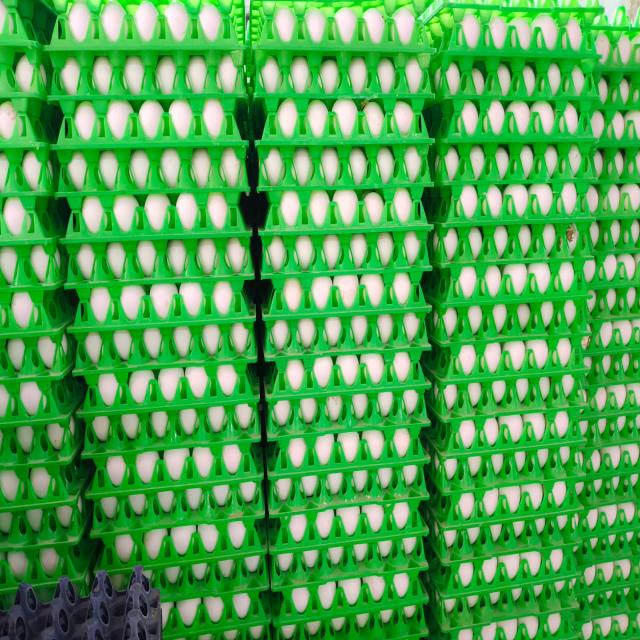egg_tray: (0, 140, 90, 587), (50, 2, 246, 191), (260, 188, 428, 353), (266, 353, 426, 515), (92, 471, 268, 616), (260, 189, 428, 326), (427, 477, 582, 614), (270, 503, 426, 637), (268, 387, 426, 517), (270, 506, 426, 637), (427, 359, 586, 487), (426, 182, 589, 303), (98, 521, 268, 637), (84, 410, 262, 519), (270, 502, 425, 627), (270, 502, 426, 626), (423, 304, 588, 420), (425, 303, 588, 420), (64, 193, 253, 290), (64, 193, 252, 289), (254, 47, 430, 144), (90, 470, 264, 568), (71, 282, 256, 374), (88, 441, 262, 537), (57, 55, 243, 144), (82, 363, 256, 457), (65, 189, 250, 275), (429, 132, 593, 223), (264, 269, 428, 359), (434, 51, 597, 141), (425, 142, 599, 226), (585, 147, 640, 410), (266, 427, 427, 516), (427, 143, 598, 225), (268, 351, 426, 437), (269, 502, 426, 587), (426, 407, 584, 490), (100, 514, 266, 593), (426, 445, 584, 527), (425, 483, 582, 565), (427, 547, 578, 631), (270, 316, 426, 397), (50, 49, 244, 113), (249, 1, 430, 68), (0, 458, 92, 589), (0, 417, 91, 549), (426, 489, 580, 566), (260, 215, 429, 285), (48, 0, 244, 60), (265, 352, 430, 423), (428, 221, 592, 292), (266, 271, 411, 350), (0, 289, 82, 427), (256, 130, 430, 195), (425, 475, 584, 546), (66, 234, 253, 294), (424, 4, 601, 67), (257, 138, 430, 202), (253, 52, 430, 114), (428, 543, 578, 615), (56, 146, 248, 202), (434, 58, 598, 123), (272, 571, 428, 639), (0, 194, 71, 342), (425, 411, 584, 477), (73, 317, 257, 374), (18, 566, 161, 639), (0, 195, 72, 339), (0, 147, 68, 297), (256, 98, 430, 156), (80, 363, 257, 420), (0, 147, 68, 293), (83, 403, 260, 458), (56, 97, 243, 149), (74, 280, 254, 333), (583, 253, 640, 420), (260, 181, 429, 237), (274, 578, 429, 639), (0, 151, 67, 292), (426, 436, 583, 495), (578, 447, 638, 601), (426, 299, 591, 354), (0, 44, 56, 206), (432, 139, 594, 195), (430, 577, 577, 638), (422, 335, 588, 388), (580, 348, 640, 494), (263, 271, 428, 324), (0, 455, 91, 551), (266, 387, 428, 440), (423, 257, 588, 307), (264, 310, 429, 360), (0, 4, 56, 147), (425, 370, 585, 420), (0, 373, 83, 466), (434, 98, 597, 145), (584, 184, 640, 319), (582, 289, 640, 418), (0, 537, 98, 609), (0, 538, 95, 609), (578, 479, 640, 587), (591, 23, 640, 152), (0, 487, 91, 556), (584, 183, 640, 295), (576, 535, 638, 636), (0, 193, 68, 284), (0, 0, 54, 111), (160, 585, 270, 639), (577, 499, 638, 590), (0, 415, 84, 479), (581, 407, 640, 498), (592, 7, 640, 112), (0, 222, 67, 293), (0, 374, 83, 428), (430, 609, 575, 639), (429, 610, 575, 639), (587, 178, 640, 257), (0, 287, 74, 342), (0, 329, 75, 383), (589, 183, 640, 261), (582, 289, 640, 357), (0, 287, 74, 340), (583, 289, 640, 357), (580, 441, 640, 505), (180, 596, 269, 639), (270, 192, 370, 230), (106, 447, 210, 483), (580, 447, 638, 507), (0, 0, 54, 63), (592, 147, 640, 217), (592, 6, 640, 75), (0, 93, 59, 149), (574, 589, 640, 639), (0, 46, 50, 111), (0, 147, 58, 201), (577, 590, 640, 639), (580, 413, 640, 464), (578, 589, 640, 638), (594, 63, 640, 114), (590, 108, 640, 148), (8, 54, 45, 98), (161, 601, 200, 639), (98, 98, 131, 138), (488, 340, 549, 360), (496, 414, 547, 436), (206, 405, 255, 426), (173, 600, 210, 627), (368, 193, 400, 224), (28, 347, 66, 373), (335, 191, 363, 221), (454, 13, 480, 45), (292, 148, 311, 187), (405, 148, 425, 181), (536, 15, 557, 44), (320, 322, 343, 348), (590, 387, 616, 410), (70, 103, 97, 125), (602, 220, 633, 239), (137, 249, 157, 276), (198, 252, 222, 274), (608, 424, 640, 440), (394, 190, 412, 218), (3, 604, 23, 629), (225, 594, 244, 620), (6, 199, 33, 217), (386, 574, 409, 594), (16, 100, 40, 119), (592, 356, 619, 372), (491, 15, 505, 45), (445, 148, 459, 177), (403, 314, 420, 336), (499, 415, 523, 430), (40, 352, 61, 368), (282, 516, 304, 531), (470, 147, 485, 169), (406, 322, 422, 342), (556, 339, 578, 353), (412, 292, 426, 314), (3, 340, 21, 357), (595, 387, 614, 402), (495, 148, 508, 169), (570, 18, 580, 44), (379, 321, 390, 344), (354, 156, 366, 177), (353, 321, 367, 338), (524, 483, 543, 495), (136, 454, 153, 467), (588, 295, 598, 316), (617, 79, 629, 95), (490, 201, 501, 217), (19, 115, 29, 132), (275, 325, 289, 337), (548, 147, 557, 163), (515, 18, 528, 29), (0, 359, 9, 374), (564, 201, 574, 214), (350, 150, 360, 163), (606, 265, 615, 279), (46, 342, 56, 354), (601, 78, 607, 98), (509, 487, 519, 499), (3, 105, 12, 118), (428, 588, 436, 602), (209, 611, 219, 622), (345, 523, 355, 534), (300, 592, 307, 607), (47, 354, 55, 367), (586, 571, 594, 584), (538, 456, 548, 466), (356, 335, 366, 345), (369, 622, 379, 632), (328, 335, 337, 346), (332, 403, 341, 414), (594, 150, 601, 164), (196, 567, 204, 579), (219, 453, 231, 461), (224, 385, 233, 395), (465, 207, 474, 217), (369, 525, 379, 534), (616, 12, 625, 22), (397, 616, 407, 625), (525, 574, 535, 583), (310, 8, 321, 16), (172, 450, 180, 461), (432, 493, 442, 501), (628, 265, 634, 278), (558, 487, 565, 498), (587, 263, 594, 274), (394, 332, 403, 340), (618, 415, 629, 421), (370, 576, 383, 581), (309, 535, 317, 543), (542, 116, 549, 125), (610, 86, 617, 95), (456, 501, 465, 508), (530, 459, 536, 469), (589, 193, 594, 205), (570, 303, 575, 315), (170, 372, 180, 378), (34, 433, 44, 439), (457, 355, 461, 369), (621, 355, 629, 362), (214, 463, 223, 469), (488, 457, 497, 463), (32, 341, 37, 351), (251, 541, 261, 546), (586, 374, 591, 384), (528, 154, 533, 164), (232, 6, 239, 13), (265, 253, 272, 260), (126, 136, 134, 142), (604, 412, 610, 420), (232, 451, 240, 457), (38, 433, 46, 439), (240, 609, 246, 617), (405, 612, 413, 618), (369, 8, 378, 13), (75, 264, 80, 273), (164, 452, 173, 457), (300, 317, 309, 322), (278, 7, 289, 11), (461, 563, 468, 569), (151, 290, 157, 297), (487, 466, 492, 474), (265, 614, 270, 622), (0, 211, 8, 216), (334, 625, 342, 630), (380, 618, 388, 623), (412, 402, 417, 410), (419, 115, 423, 125), (596, 254, 604, 259), (72, 201, 78, 207), (620, 479, 629, 483), (560, 471, 566, 477), (274, 431, 280, 437), (3, 454, 10, 459), (581, 367, 586, 374), (14, 366, 21, 371), (485, 29, 490, 36), (17, 150, 22, 157), (512, 594, 519, 599), (636, 222, 640, 230), (150, 513, 154, 521), (590, 418, 595, 424), (197, 456, 202, 462), (198, 447, 204, 452), (615, 150, 621, 155), (565, 147, 570, 153), (290, 628, 295, 634), (222, 477, 229, 481), (231, 460, 238, 464), (198, 626, 202, 633), (450, 535, 454, 542), (407, 308, 416, 311), (537, 469, 542, 474), (455, 345, 460, 350), (364, 617, 369, 622), (576, 505, 581, 510), (436, 494, 441, 499), (55, 339, 61, 343), (338, 209, 341, 217), (34, 396, 38, 402), (35, 250, 38, 258), (151, 452, 157, 456), (592, 389, 596, 395), (230, 197, 236, 201), (487, 161, 493, 165), (270, 221, 274, 227), (600, 479, 606, 483), (480, 602, 483, 610), (543, 593, 547, 599), (523, 439, 527, 445), (466, 570, 469, 577), (584, 183, 587, 190), (523, 148, 530, 151), (416, 596, 426, 598), (56, 62, 61, 66), (82, 143, 86, 148), (60, 87, 64, 92), (179, 372, 183, 377), (613, 454, 618, 458), (47, 135, 52, 139), (336, 317, 340, 322), (591, 473, 596, 477), (579, 583, 583, 588), (514, 597, 519, 601), (407, 398, 411, 403), (277, 135, 281, 140), (503, 487, 508, 491), (467, 107, 470, 113), (586, 55, 589, 61), (178, 633, 184, 636), (615, 157, 618, 163), (82, 565, 88, 568), (332, 108, 336, 112), (50, 274, 54, 278), (347, 7, 351, 11), (542, 37, 546, 41), (12, 151, 16, 155), (370, 317, 374, 321), (270, 239, 272, 247), (188, 589, 192, 593), (39, 468, 43, 472), (390, 127, 394, 131), (272, 223, 275, 228), (193, 614, 196, 619), (630, 160, 633, 165), (525, 105, 528, 110), (494, 531, 499, 534), (179, 595, 184, 598), (184, 590, 187, 595), (533, 441, 538, 444), (129, 525, 134, 528), (0, 158, 2, 165), (430, 558, 432, 565), (51, 425, 58, 427), (421, 409, 424, 413), (468, 350, 472, 353), (69, 102, 71, 108), (343, 8, 346, 12), (595, 420, 599, 423), (162, 486, 168, 488), (209, 459, 212, 463), (546, 212, 550, 215), (445, 191, 449, 194), (408, 614, 412, 617), (67, 569, 71, 572), (599, 380, 605, 382), (472, 117, 475, 121), (566, 447, 568, 453), (401, 629, 404, 633), (380, 613, 386, 615), (600, 300, 606, 302), (347, 149, 350, 153), (3, 477, 6, 481), (638, 190, 640, 196), (533, 572, 537, 575), (138, 520, 142, 523), (362, 203, 364, 208), (333, 610, 338, 612), (16, 87, 18, 92), (225, 615, 230, 617), (596, 169, 598, 174), (470, 159, 472, 164), (0, 166, 2, 171), (46, 150, 48, 155), (314, 625, 319, 627), (610, 290, 615, 292), (596, 229, 598, 234), (14, 294, 19, 296), (80, 429, 83, 432), (362, 228, 365, 231), (612, 535, 615, 538), (240, 21, 243, 24), (507, 47, 510, 50), (599, 465, 602, 468), (242, 131, 245, 134), (114, 465, 117, 468), (514, 582, 517, 585), (25, 169, 28, 172), (285, 338, 288, 341), (332, 330, 335, 333), (305, 330, 308, 333), (627, 335, 630, 338), (471, 105, 474, 108), (578, 484, 581, 487), (409, 620, 412, 623), (412, 112, 413, 121), (64, 348, 66, 352), (270, 212, 274, 214), (3, 319, 5, 323), (287, 317, 291, 319), (407, 309, 415, 310), (465, 349, 467, 353), (30, 354, 34, 356), (532, 461, 534, 465), (348, 337, 350, 341), (174, 571, 176, 575), (41, 67, 43, 71), (426, 58, 428, 62), (470, 596, 474, 598), (438, 270, 440, 274), (366, 313, 370, 315), (6, 201, 10, 203), (283, 345, 285, 349), (630, 497, 634, 499), (41, 345, 43, 348), (363, 507, 366, 509), (400, 598, 402, 601), (55, 260, 58, 262), (121, 140, 123, 143), (89, 125, 92, 127), (75, 117, 78, 119), (233, 551, 236, 553), (592, 54, 594, 57), (465, 51, 468, 53), (514, 29, 517, 31), (70, 58, 73, 60), (41, 136, 44, 138), (163, 486, 166, 488), (164, 515, 166, 518), (421, 3, 423, 6), (430, 632, 432, 635), (49, 163, 50, 169), (4, 156, 6, 159), (294, 157, 295, 163), (361, 530, 364, 532), (36, 461, 39, 463), (630, 163, 631, 169), (596, 162, 597, 168), (182, 497, 184, 500), (374, 616, 377, 618), (596, 417, 599, 419), (592, 311, 594, 314), (342, 153, 345, 155), (609, 332, 611, 335), (466, 503, 468, 506), (603, 427, 604, 432), (232, 244, 233, 249), (36, 124, 37, 129), (618, 447, 619, 452), (609, 335, 610, 340), (563, 380, 564, 385), (3, 46, 4, 50), (546, 470, 548, 472), (274, 212, 276, 214), (3, 300, 5, 302), (427, 356, 429, 358), (0, 373, 2, 375), (245, 439, 246, 443), (55, 279, 57, 281), (59, 260, 61, 262), (241, 10, 243, 12), (368, 339, 370, 341), (170, 580, 174, 581), (186, 450, 188, 452), (470, 202, 472, 204), (617, 461, 619, 463), (446, 31, 450, 32), (601, 463, 603, 465), (337, 628, 339, 630), (179, 58, 180, 62), (73, 59, 75, 61), (74, 61, 76, 63), (178, 513, 180, 515), (84, 456, 88, 457), (626, 392, 628, 394), (592, 380, 594, 382), (436, 158, 438, 160), (370, 308, 372, 310), (521, 227, 525, 228), (634, 258, 635, 262), (352, 541, 354, 543), (344, 540, 348, 541), (542, 417, 544, 419), (32, 104, 34, 106), (286, 634, 288, 636), (53, 564, 55, 566), (583, 345, 585, 347), (594, 98, 596, 100), (590, 276, 592, 278), (595, 262, 597, 264), (611, 538, 613, 540), (621, 386, 623, 388), (217, 514, 219, 516), (15, 432, 18, 433), (476, 355, 477, 358), (342, 219, 343, 222), (294, 160, 295, 163), (132, 489, 135, 490), (608, 459, 609, 462), (54, 425, 57, 426), (578, 154, 579, 157), (302, 339, 303, 342), (412, 305, 415, 306), (150, 196, 153, 197), (341, 527, 342, 530), (598, 601, 599, 604), (25, 427, 28, 428), (408, 411, 411, 412), (594, 413, 595, 416), (632, 222, 633, 225), (142, 521, 143, 524), (212, 427, 215, 428), (201, 416, 202, 419), (422, 407, 423, 409), (43, 342, 44, 344), (3, 42, 4, 44), (276, 347, 278, 348), (302, 198, 304, 199), (551, 111, 552, 113), (541, 111, 542, 113), (604, 307, 606, 308), (54, 246, 56, 247), (61, 139, 62, 141), (156, 136, 158, 137), (134, 136, 135, 138), (382, 53, 383, 55), (294, 158, 295, 160), (76, 260, 77, 262), (110, 551, 111, 553), (524, 203, 526, 204), (438, 112, 439, 114), (604, 351, 606, 352), (612, 455, 613, 457), (582, 600, 584, 601), (336, 628, 337, 630), (4, 436, 6, 437), (204, 612, 206, 613), (638, 176, 640, 177), (618, 118, 619, 120), (48, 366, 50, 367), (582, 314, 583, 316), (305, 347, 307, 348), (590, 598, 592, 599), (598, 171, 599, 173), (429, 447, 430, 449), (92, 533, 94, 534), (368, 415, 369, 417), (538, 566, 539, 568), (522, 498, 524, 499), (205, 508, 206, 510), (180, 424, 181, 426), (323, 431, 324, 432), (0, 443, 1, 444), (300, 225, 301, 226), (536, 109, 537, 110), (467, 361, 468, 362), (587, 542, 588, 543), (380, 582, 381, 583), (58, 340, 59, 341), (29, 400, 30, 401), (196, 145, 197, 146), (56, 76, 57, 77), (180, 376, 181, 377), (87, 278, 88, 279), (253, 569, 254, 570), (36, 131, 37, 132), (214, 609, 215, 610), (111, 469, 112, 470), (169, 518, 170, 519), (0, 179, 1, 180), (309, 345, 310, 346), (413, 296, 414, 297), (305, 287, 306, 288), (329, 225, 330, 226), (413, 216, 414, 217), (360, 180, 361, 181), (60, 229, 61, 230), (0, 218, 1, 219), (547, 105, 548, 106), (336, 418, 337, 419), (596, 214, 597, 215), (385, 507, 386, 508), (428, 554, 429, 555), (5, 436, 6, 437), (462, 422, 463, 423), (3, 136, 4, 137), (243, 422, 244, 423), (134, 381, 135, 382), (556, 356, 558, 356), (625, 590, 626, 590), (310, 221, 312, 221), (0, 303, 2, 303), (342, 314, 343, 314), (263, 115, 263, 116), (551, 121, 552, 121), (468, 116, 468, 117), (462, 370, 463, 370), (394, 636, 396, 636), (338, 636, 339, 636), (585, 427, 585, 428), (581, 424, 581, 424), (560, 527, 562, 527), (168, 145, 176, 145), (85, 132, 86, 132), (166, 374, 169, 374), (481, 582, 481, 583), (445, 570, 446, 570), (632, 418, 632, 419), (170, 563, 170, 564), (240, 554, 245, 554), (145, 478, 146, 478), (566, 196, 566, 198), (494, 196, 494, 197), (588, 387, 588, 388), (272, 601, 272, 603), (232, 627, 232, 627), (226, 604, 226, 606), (116, 461, 117, 461), (612, 162, 612, 163), (540, 159, 542, 159), (572, 318, 572, 319), (334, 328, 334, 328), (341, 323, 342, 323), (283, 247, 283, 247), (414, 203, 414, 204), (276, 182, 276, 184), (552, 110, 552, 110), (599, 210, 600, 210), (570, 590, 570, 590), (574, 454, 574, 456), (284, 541, 286, 541), (463, 614, 464, 614), (498, 528, 499, 528), (192, 104, 192, 106), (327, 621, 328, 621), (394, 614, 394, 616), (369, 414, 370, 414), (312, 136, 312, 137), (510, 433, 510, 436), (614, 256, 614, 258), (501, 347, 501, 349), (585, 343, 586, 343), (596, 245, 597, 245)
